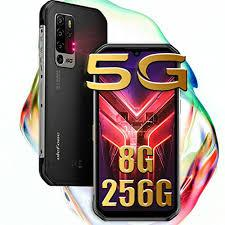Smartphone: (99, 45, 177, 215), (46, 5, 105, 190)
